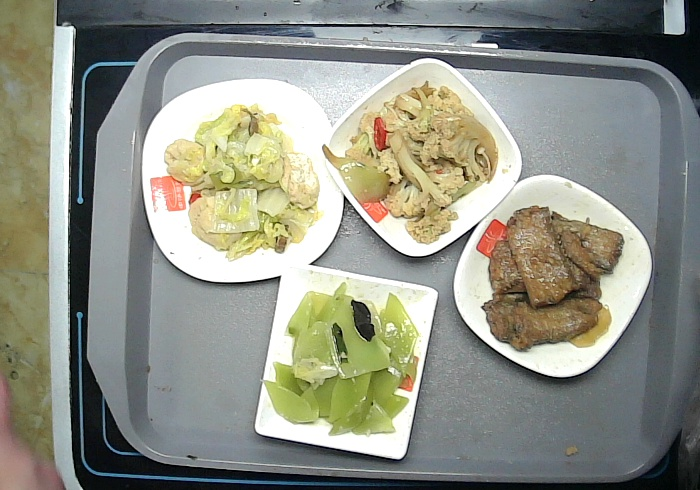SHKJ-Bai_Se_Cai_Die: (453, 174, 653, 379)
SHKJ-Bai_Se_Si_Fang_Cai_Die: (140, 77, 345, 281)
SHKJ-Bai_Se_Xiao_Fang_Die: (323, 57, 521, 255)
SHKJ-Si_Fang_Min: (254, 266, 438, 460)
